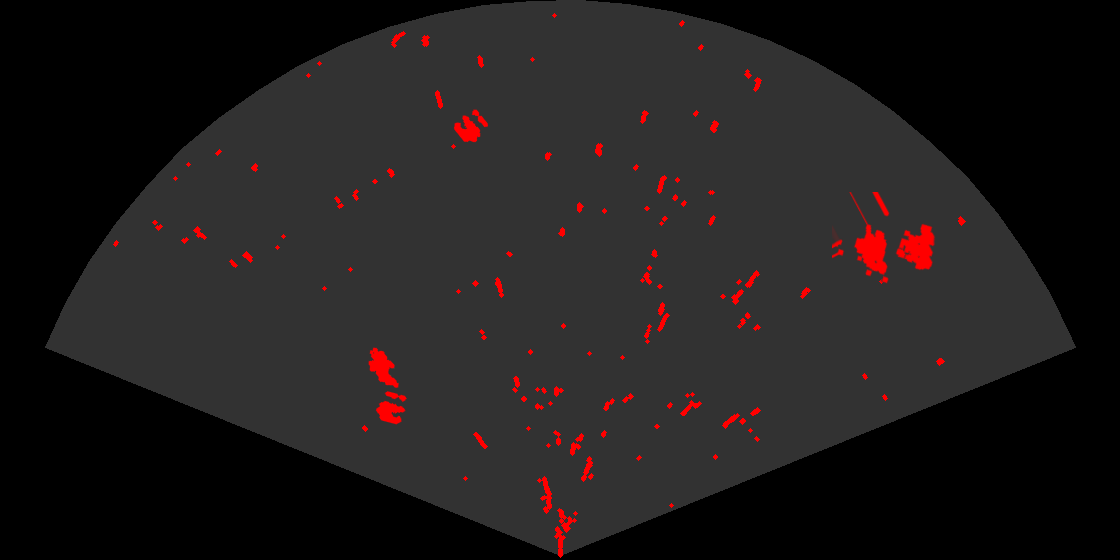AUV: (367, 346, 400, 390)
ball: (452, 108, 490, 144), (374, 390, 408, 426)
cage: (832, 192, 937, 285)
